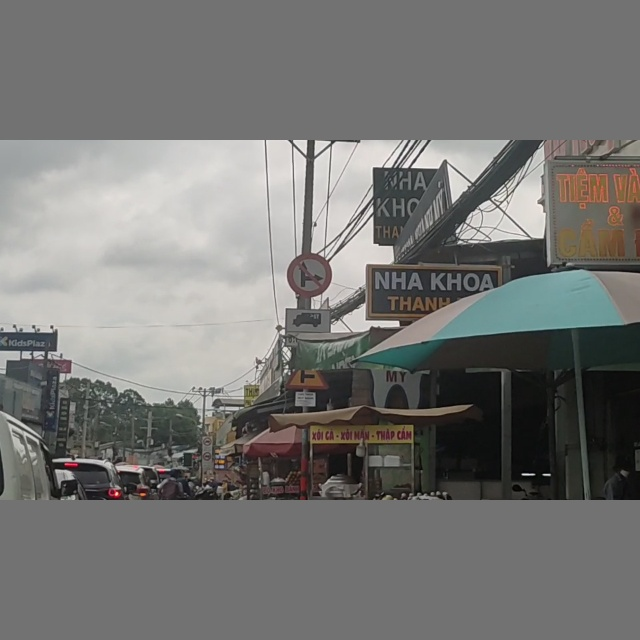P.139: (287, 255, 331, 295)
S.505a*Xe tai: (287, 307, 328, 335)
